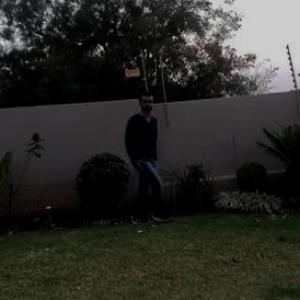follow: (114, 88, 165, 231)
